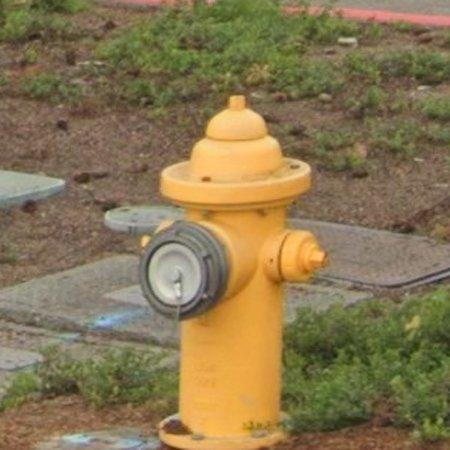a fire hydrant: (140, 95, 327, 450)
